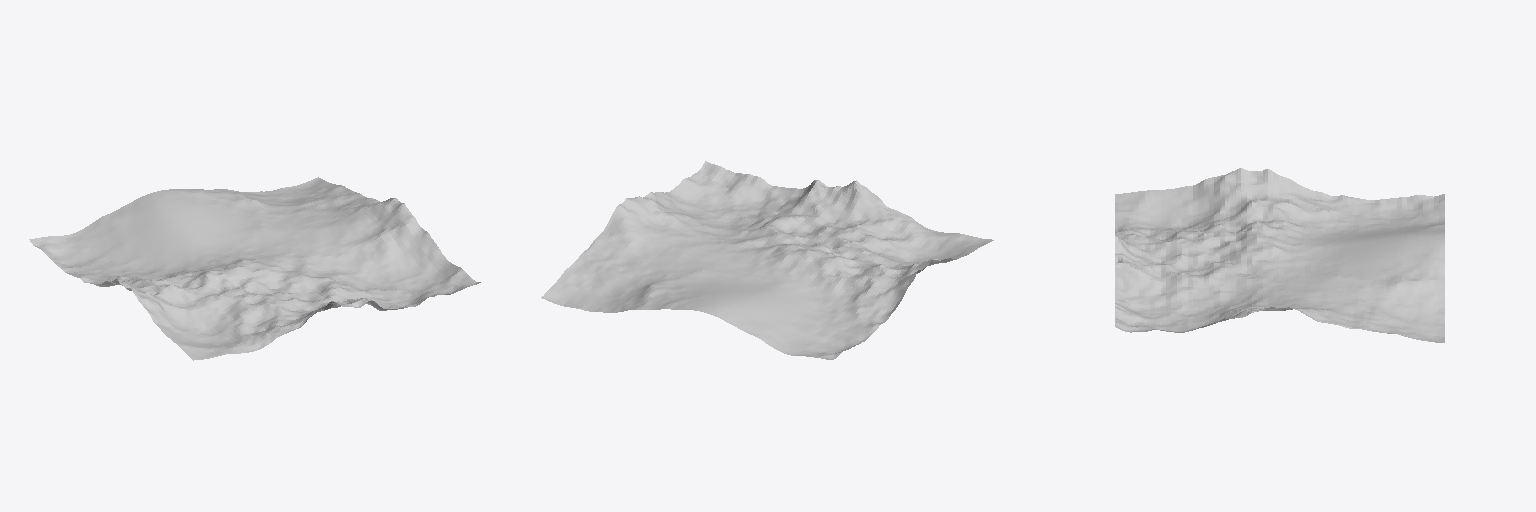
Rendered from ground5.obj.
The picture shows the model from 3 angles: view 1: azimuth 30°, elevation 25°; view 2: azimuth 150°, elevation 25°; view 3: azimuth 270°, elevation 25°; orthographic projection.
Parts seen in each view (by area): view 1: ground5; view 2: ground5; view 3: ground5.
Boxes of the visible parts, x1,y1,x2,y2 form: ground5: [29, 177, 480, 360]; ground5: [541, 161, 993, 359]; ground5: [1115, 168, 1444, 342].
Bounding box in the file's own units: 82.47 × 10.93 × 81.26.